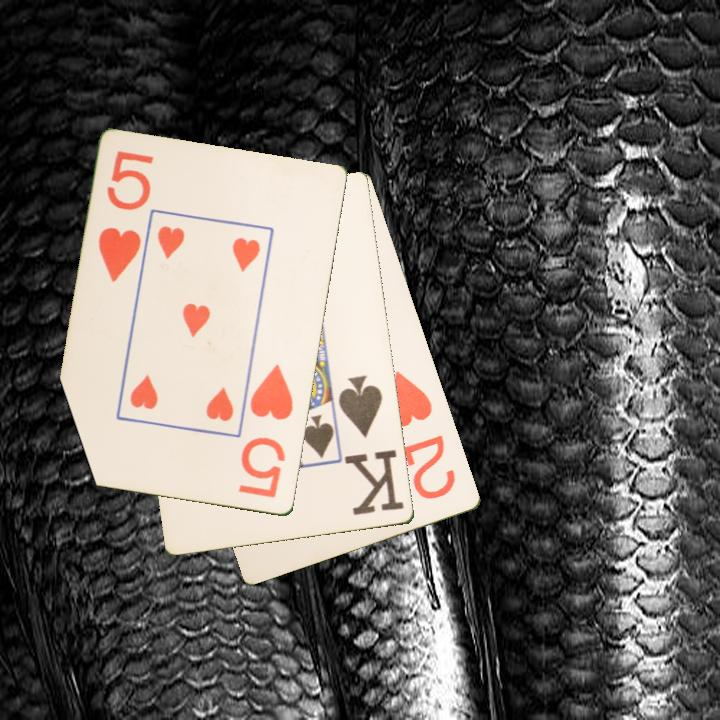2h: (385, 367, 459, 503)
5h: (235, 361, 297, 502), (95, 148, 157, 286)
Ks: (335, 371, 407, 519)
